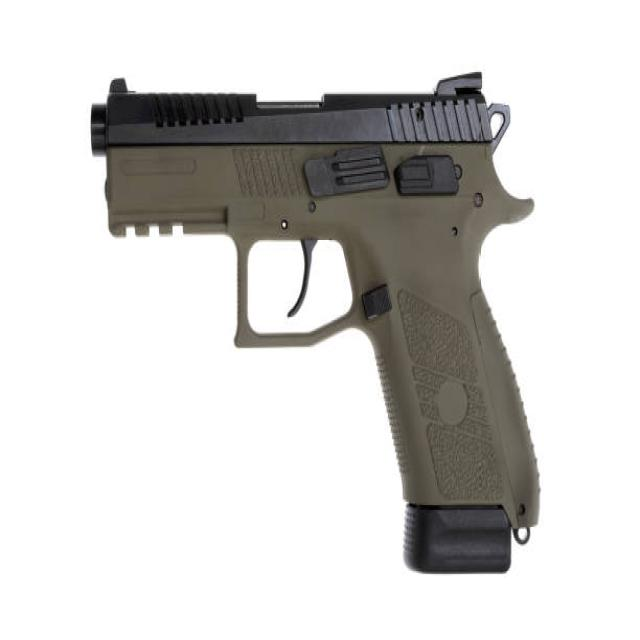pistol: (85, 66, 544, 582)
